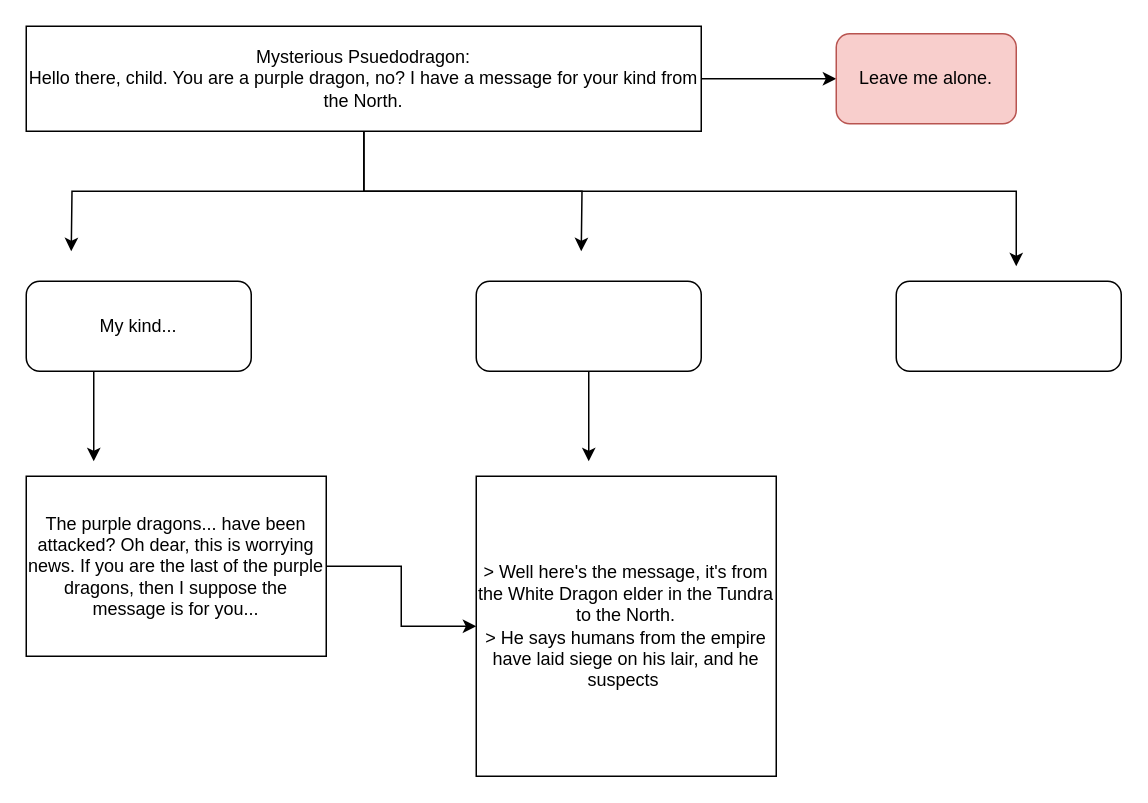
Some shapes in this 1148 by 803 pixel diagram are drawn without their labels. The centre of each missing label's shape, as x and y in pixels:
"The North?" goes at (588,325).
"Who... what are you?" goes at (1008,325).
